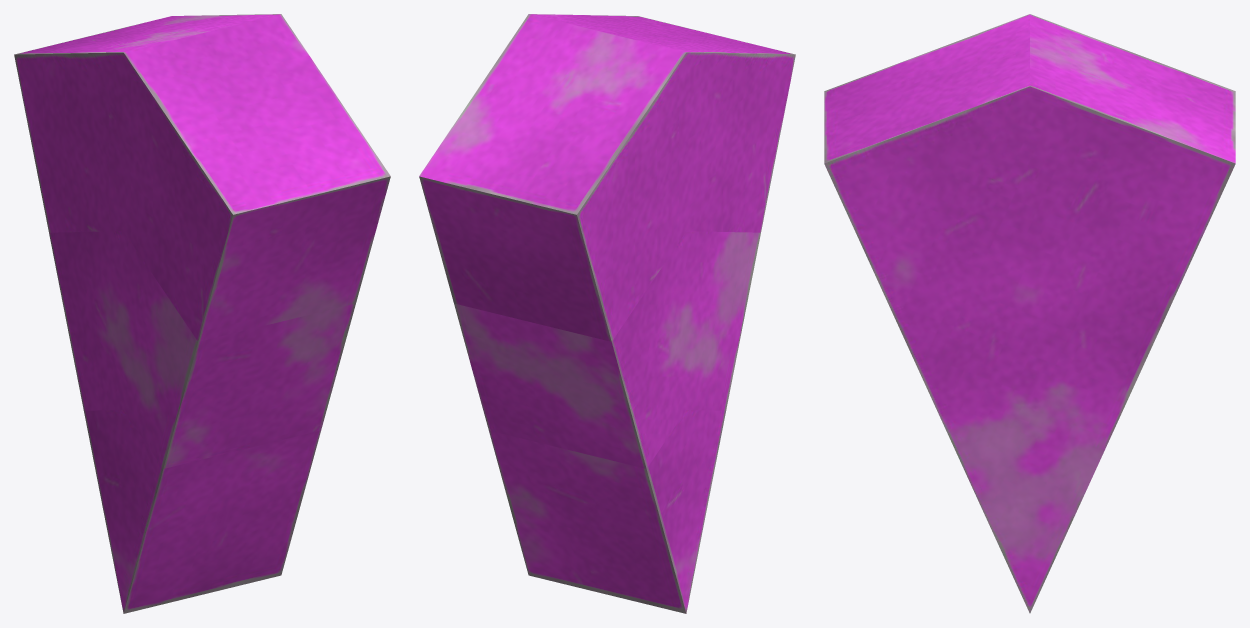
File: target-fragment-large.glb
The picture shows the model from 3 angles, left to right: view 1: azimuth 30°, elevation 25°; view 2: azimuth 150°, elevation 25°; view 3: azimuth 270°, elevation 25°; orthographic projection. The views are drawn at different scales.
Visible parts, largest first — view 1: target-fragment-large; view 2: target-fragment-large; view 3: target-fragment-large.
Boxes of the visible parts, x1=… form: target-fragment-large: x1=14, y1=14, x2=390, y2=613; target-fragment-large: x1=419, y1=14, x2=795, y2=613; target-fragment-large: x1=824, y1=14, x2=1235, y2=613.
Size of the model in its own units: 0.05 by 0.17 by 0.1202.
1 material, 1 textured.
